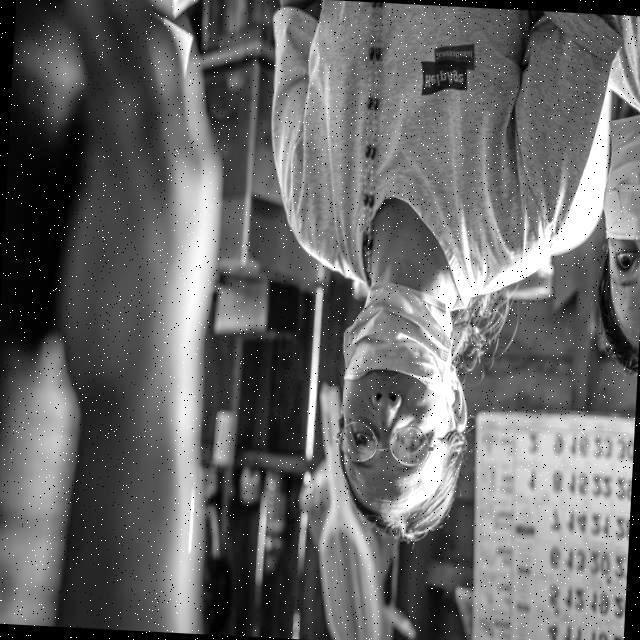no_gloves: (336, 492, 454, 542)
